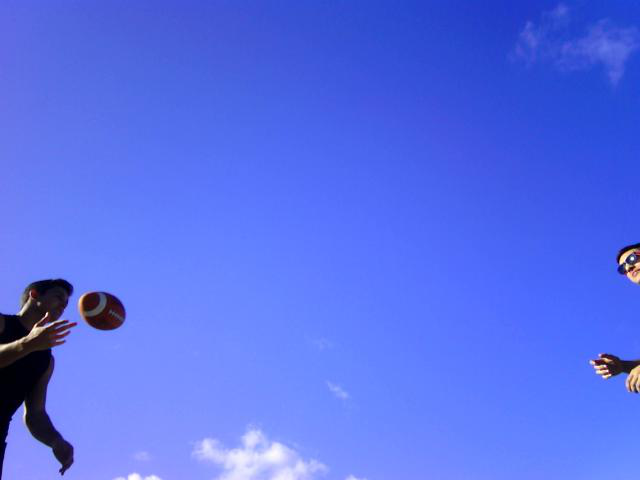football: (78, 289, 128, 334)
